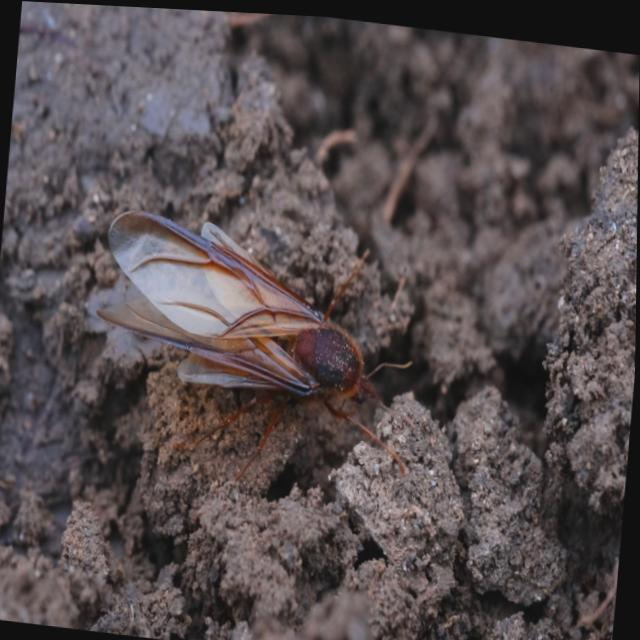Alive-Male-Alate: (84, 206, 426, 499)
